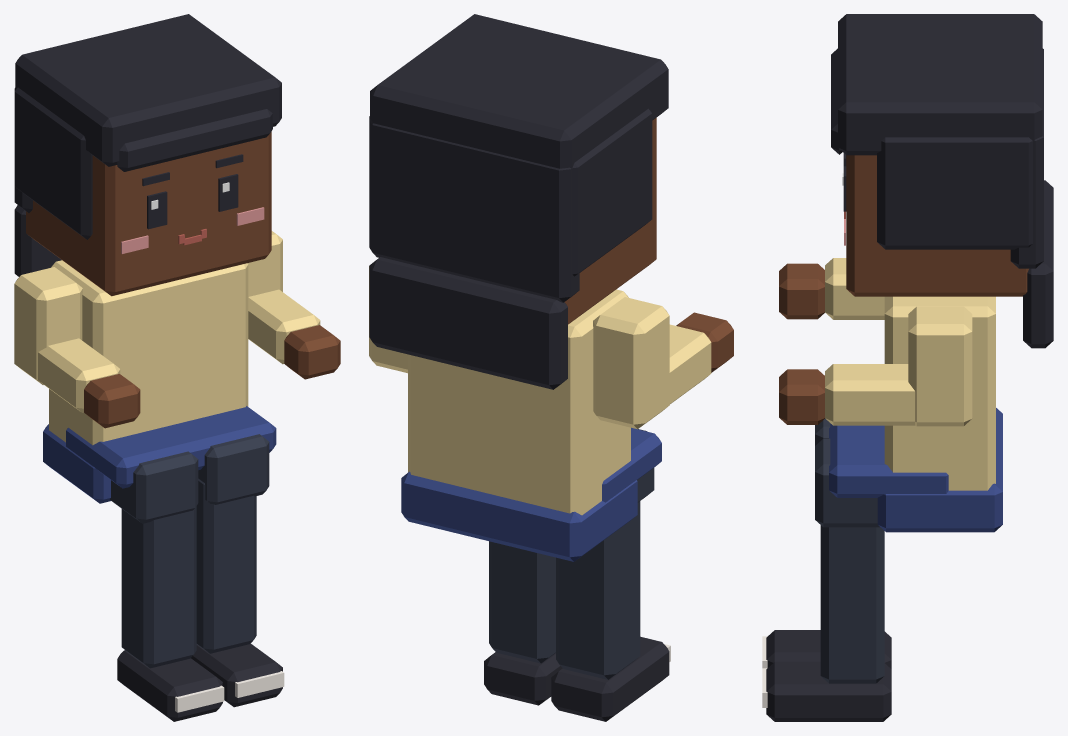
The model's file is CatCafe_NPC_Customer_L_Sit.glb.
3 views of the same model, side by side, from view 1: azimuth 30°, elevation 25°; view 2: azimuth 150°, elevation 25°; view 3: azimuth 270°, elevation 25° (orthographic). The views are drawn at different scales.
Parts seen in each view (by area): view 1: CatCafe_NPC_Customer_L_Sit; view 2: CatCafe_NPC_Customer_L_Sit; view 3: CatCafe_NPC_Customer_L_Sit.
Boxes of the visible parts, left/top/right/bottom form: CatCafe_NPC_Customer_L_Sit: left=14, top=14, right=340, bottom=721; CatCafe_NPC_Customer_L_Sit: left=369, top=14, right=733, bottom=721; CatCafe_NPC_Customer_L_Sit: left=762, top=14, right=1053, bottom=721.
Size of the model in its own units: 2.22 by 5.05 by 2.09.
Materials: 1 (1 with a texture image).
